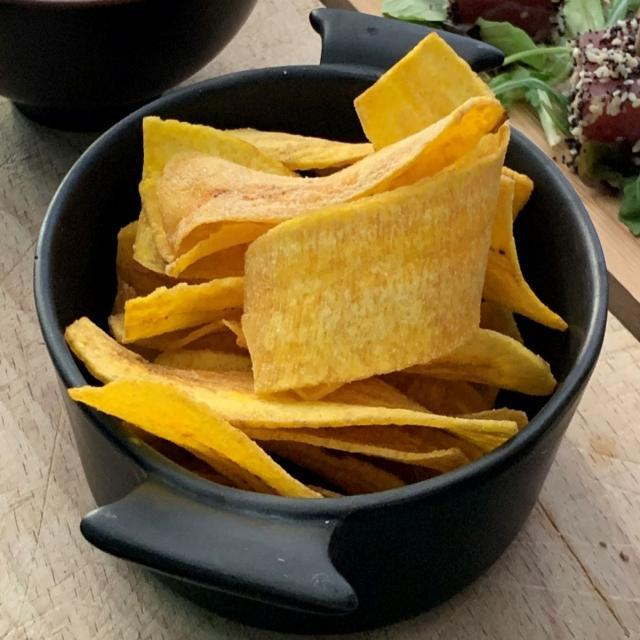Chips packaged: (98, 111, 558, 492)
